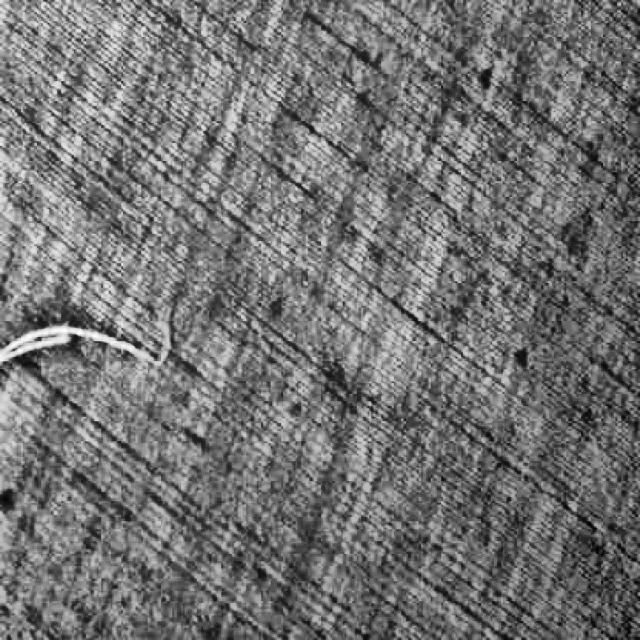objects: (0, 288, 185, 389)
